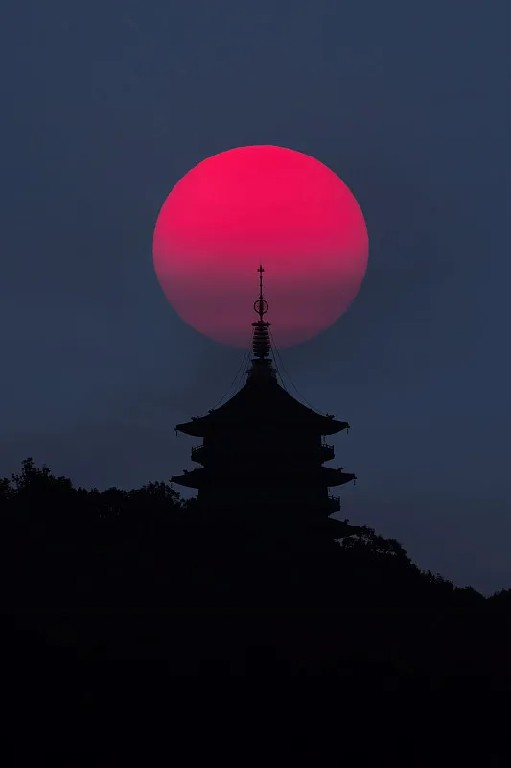Leifeng: (170, 261, 361, 561)
